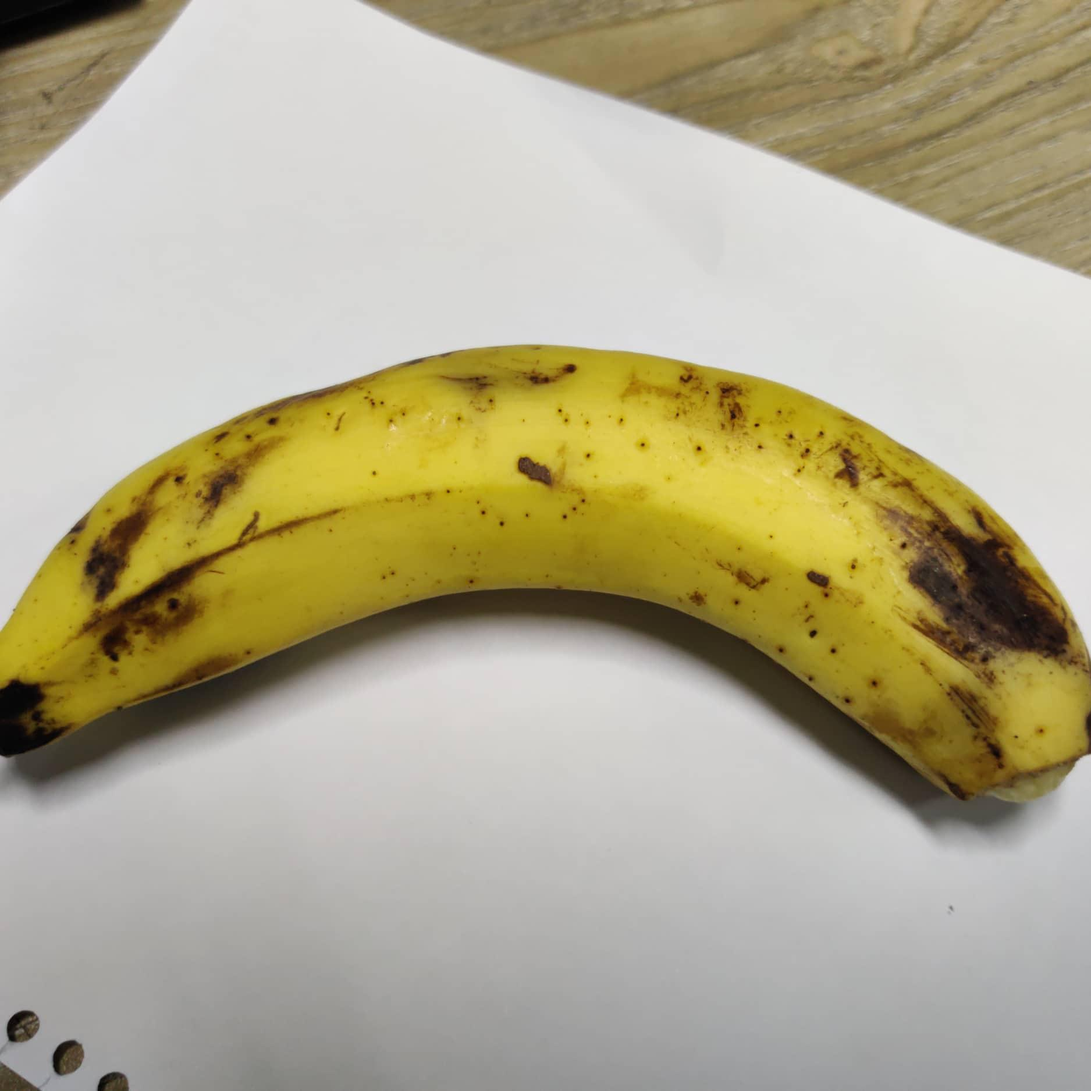Banana Ripe: (0, 282, 1091, 890)
